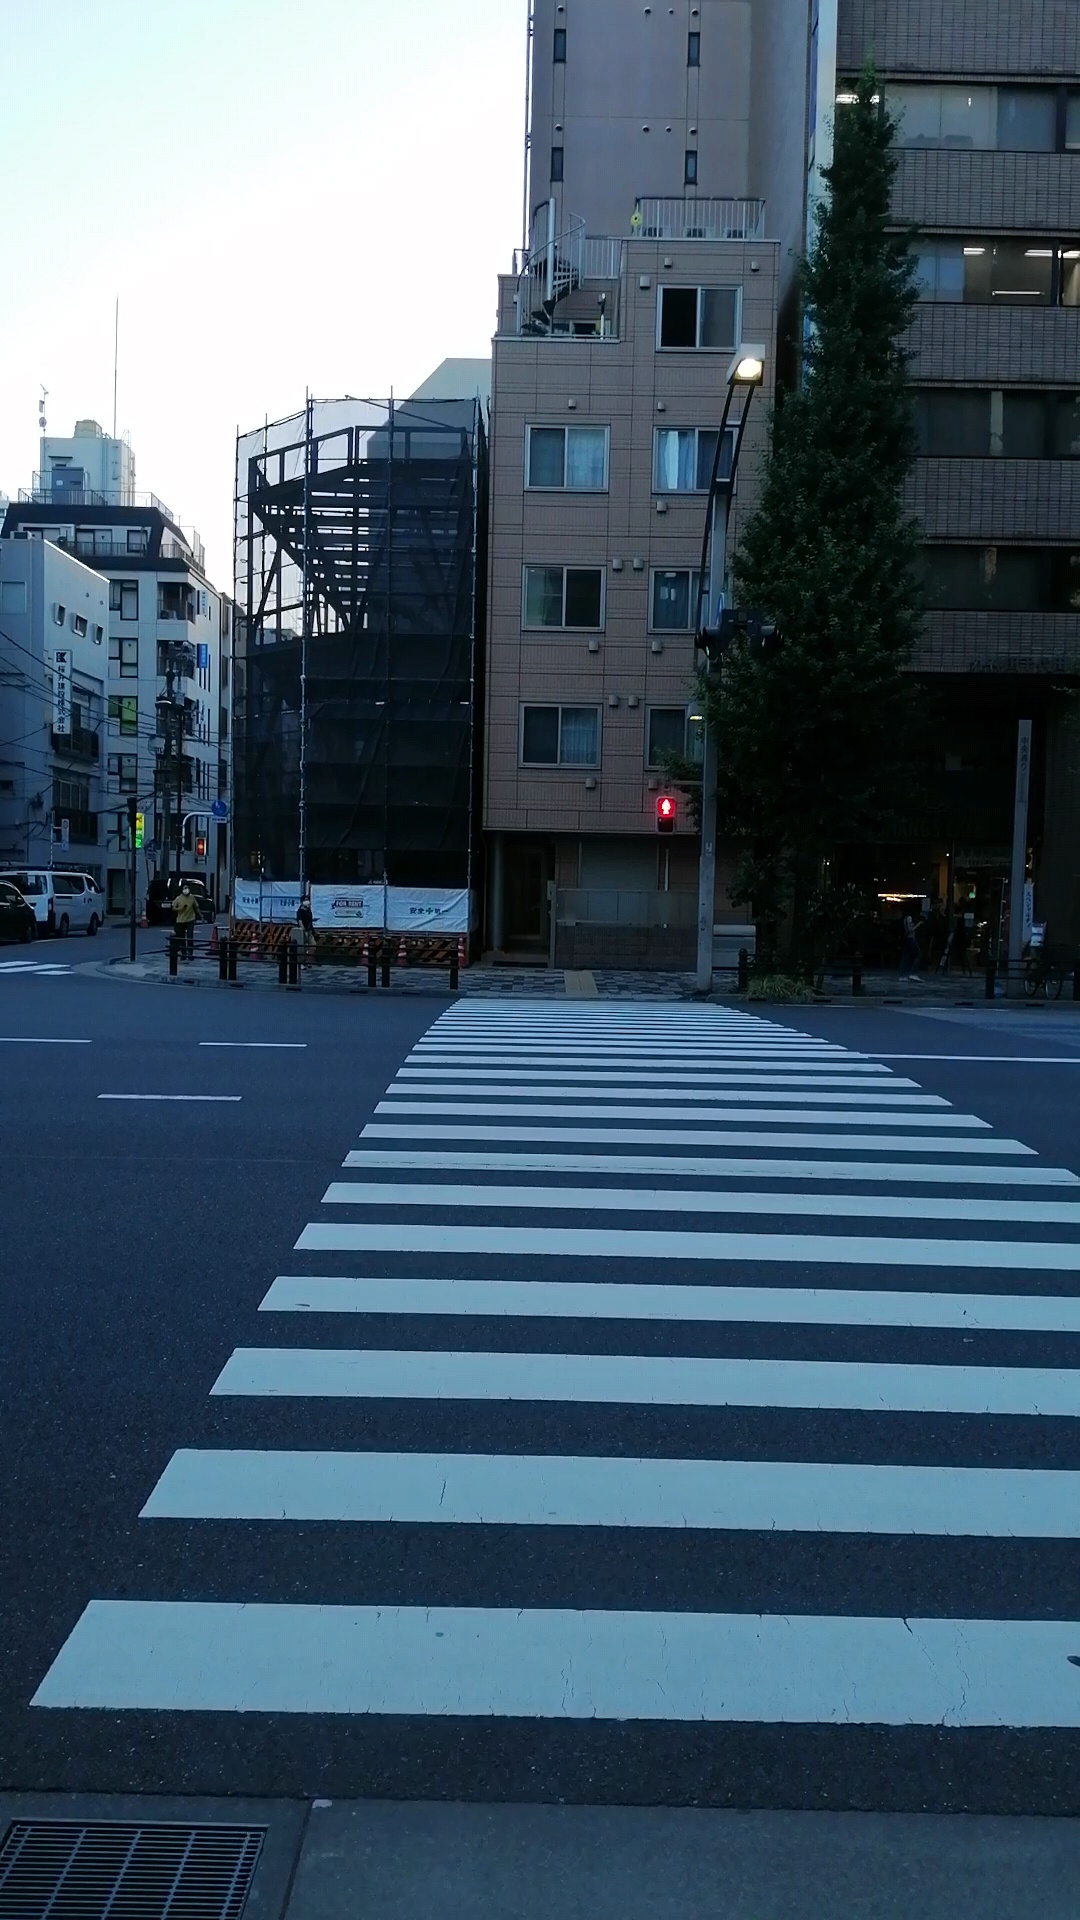red: (653, 794, 678, 840)
